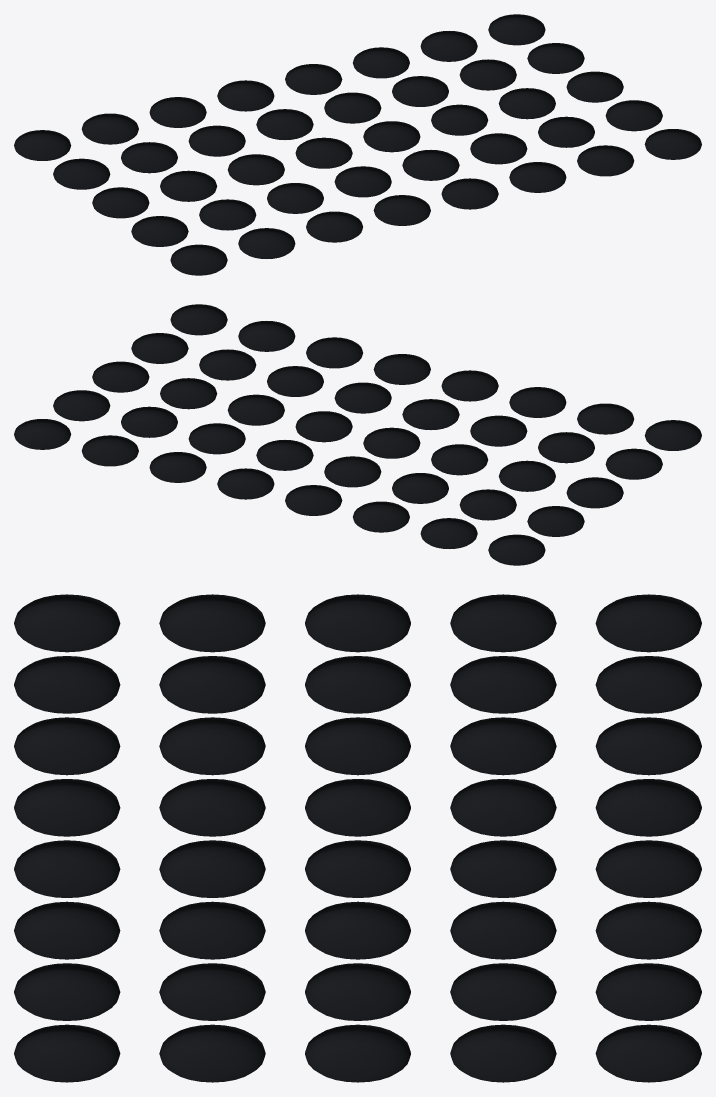
Rendered from BlackStoneSet_40_Individual_Gameplay.glb.
3 views of the same model, one above another, from view 1: azimuth 30°, elevation 25°; view 2: azimuth 150°, elevation 25°; view 3: azimuth 270°, elevation 25° (orthographic). The views are drawn at different scales.
Parts seen in each view (by area): view 1: BlackStone_10.001, BlackStone_31.001, BlackStone_07.001, BlackStone_34.001, BlackStone_03.001, BlackStone_38.001, BlackStone_01.001, BlackStone_12.001, BlackStone_14.001, BlackStone_27.001, BlackStone_29.001, BlackStone_40.001 (+28 smaller); view 2: BlackStone_15.001, BlackStone_26.001, BlackStone_02.001, BlackStone_39.001, BlackStone_06.001, BlackStone_35.001, BlackStone_08.001, BlackStone_11.001, BlackStone_13.001, BlackStone_28.001, BlackStone_30.001, BlackStone_33.001 (+28 smaller); view 3: BlackStone_17.001, BlackStone_24.001, BlackStone_04.001, BlackStone_05.001, BlackStone_12.001, BlackStone_13.001, BlackStone_28.001, BlackStone_29.001, BlackStone_36.001, BlackStone_37.001, BlackStone_02.001, BlackStone_07.001 (+28 smaller).
Part boxes in pixels (box(x1,y1,x2,y2)): BlackStone_10.001: box(199, 199, 256, 230); BlackStone_31.001: box(459, 59, 516, 90); BlackStone_07.001: box(577, 145, 634, 176); BlackStone_34.001: box(81, 113, 138, 144); BlackStone_03.001: box(306, 211, 362, 242); BlackStone_38.001: box(353, 47, 409, 78); BlackStone_01.001: box(170, 244, 227, 275); BlackStone_12.001: box(334, 166, 391, 197); BlackStone_14.001: box(470, 133, 527, 164); BlackStone_27.001: box(188, 125, 245, 156); BlackStone_29.001: box(324, 92, 381, 123); BlackStone_40.001: box(488, 14, 545, 45); BlackStone_15.001: box(199, 349, 256, 380); BlackStone_26.001: box(459, 489, 516, 520); BlackStone_02.001: box(577, 403, 634, 434); BlackStone_39.001: box(81, 435, 138, 466); BlackStone_06.001: box(306, 337, 362, 368); BlackStone_35.001: box(353, 501, 409, 532); BlackStone_08.001: box(170, 304, 227, 335); BlackStone_11.001: box(470, 415, 527, 446); BlackStone_13.001: box(334, 382, 391, 413); BlackStone_28.001: box(324, 456, 381, 487); BlackStone_30.001: box(188, 423, 245, 454); BlackStone_33.001: box(488, 534, 545, 565); BlackStone_17.001: box(305, 594, 410, 652); BlackStone_24.001: box(305, 1024, 410, 1082); BlackStone_04.001: box(14, 779, 120, 836); BlackStone_05.001: box(14, 840, 120, 897); BlackStone_12.001: box(159, 779, 265, 836); BlackStone_13.001: box(159, 840, 265, 897); BlackStone_28.001: box(450, 779, 556, 836); BlackStone_29.001: box(450, 840, 556, 897); BlackStone_36.001: box(595, 779, 701, 836); BlackStone_37.001: box(595, 840, 701, 897); BlackStone_02.001: box(14, 656, 120, 713); BlackStone_07.001: box(14, 963, 120, 1020).
Bounding box in the file's own units: 0.5798 × 0.019 × 0.3548.
1 material, 1 textured.
